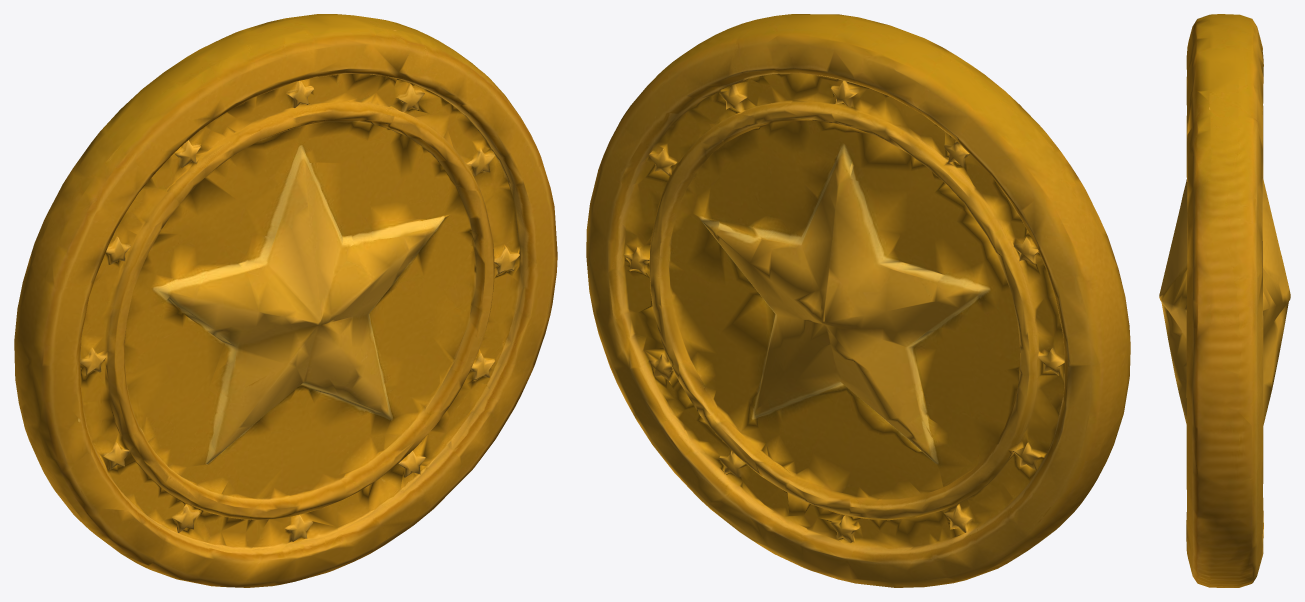
The model's file is gem-double.glb.
3 renders of one model, left to right at view 1: azimuth 30°, elevation 25°; view 2: azimuth 150°, elevation 25°; view 3: azimuth 270°, elevation 25°, orthographic. The views are drawn at different scales.
Size of the model in its own units: 1.9 by 1.9 by 0.4362.
1 material, 1 textured.
